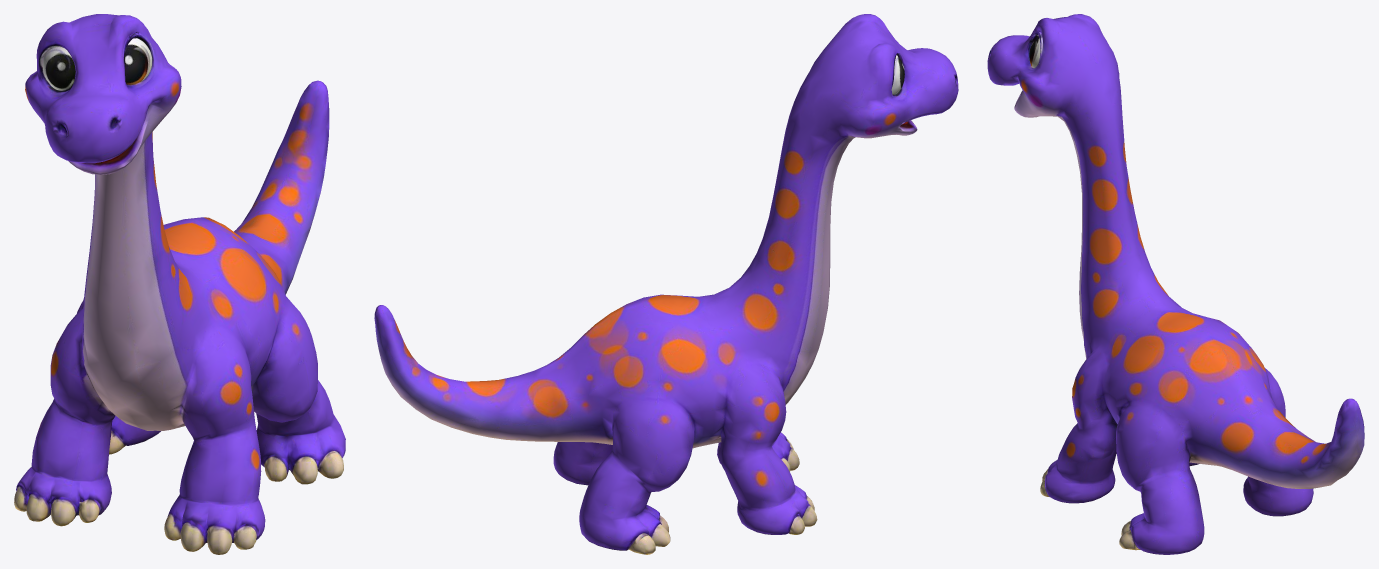
Rendered from dino_brachio.glb.
3 views of the same model, side by side, from view 1: azimuth 30°, elevation 25°; view 2: azimuth 150°, elevation 25°; view 3: azimuth 270°, elevation 25° (orthographic). The views are drawn at different scales.
Parts seen in each view (by area): view 1: dino_brachio; view 2: dino_brachio; view 3: dino_brachio.
Boxes of the visible parts, left/top/right/bottom form: dino_brachio: left=14, top=14, right=345, bottom=554; dino_brachio: left=374, top=14, right=958, bottom=554; dino_brachio: left=987, top=14, right=1364, bottom=554.
Bounding box in the file's own units: 9.98 × 11 × 8.72.
Materials: 1 (1 with a texture image).
